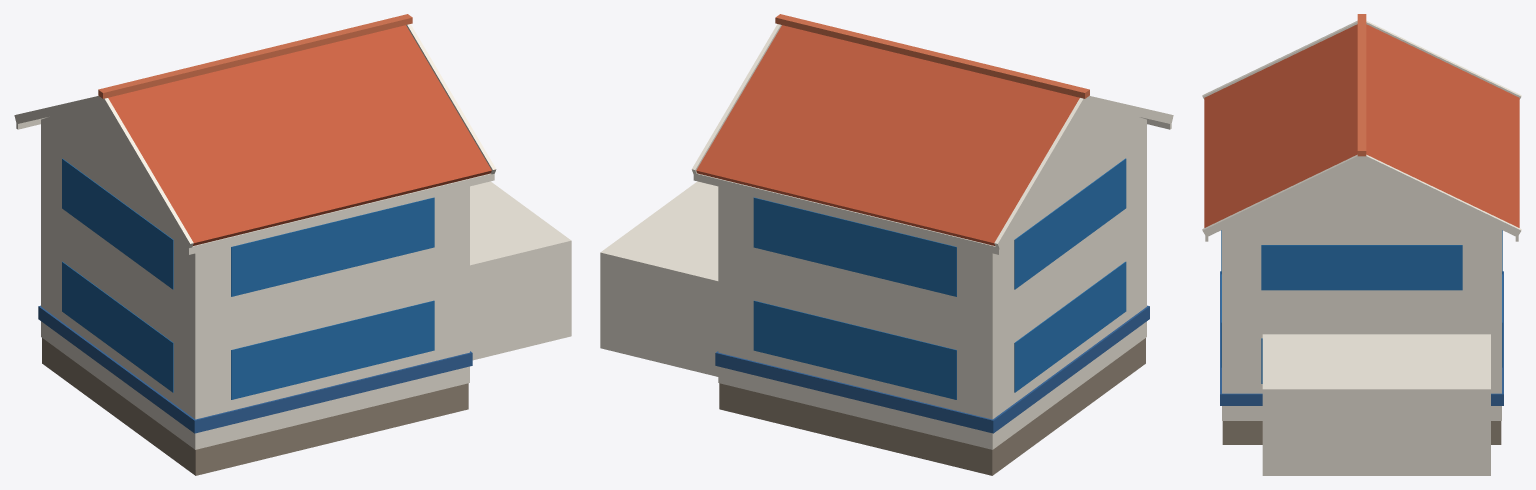
Rendered from 05_extremadura_traditional-lod2.glb.
The picture shows the model from 3 angles, left to right: view 1: azimuth 30°, elevation 25°; view 2: azimuth 150°, elevation 25°; view 3: azimuth 270°, elevation 25°; orthographic projection. The views are drawn at different scales.
Parts seen in each view (by area): view 1: 05_extremadura_traditional_LOD2; view 2: 05_extremadura_traditional_LOD2; view 3: 05_extremadura_traditional_LOD2.
Part boxes in pixels (box(x1,y1,x2,y2)): 05_extremadura_traditional_LOD2: box(14, 14, 571, 475); 05_extremadura_traditional_LOD2: box(600, 14, 1173, 475); 05_extremadura_traditional_LOD2: box(1202, 14, 1521, 475).
Size of the model in its own units: 11.82 by 9.04 by 8.66.
2 materials, 2 textured.
